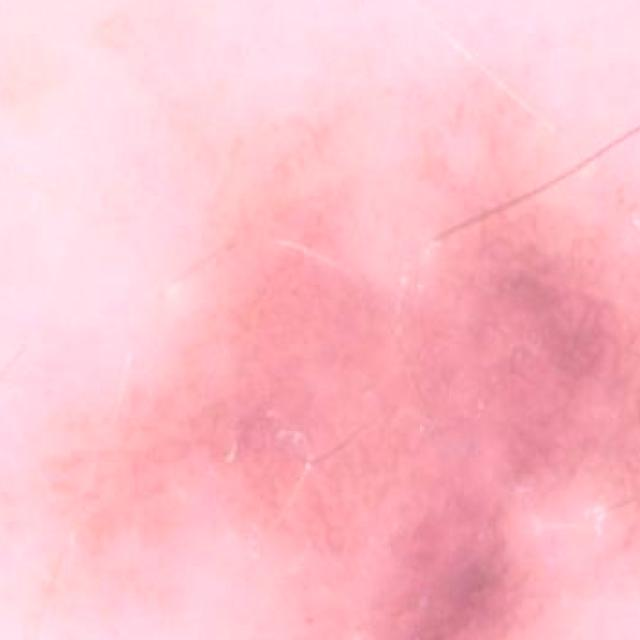NV: (34, 7, 640, 639)
